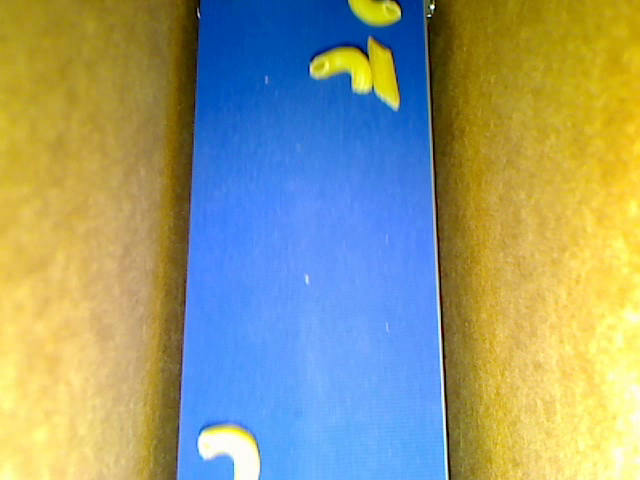elbow: (197, 423, 259, 479), (308, 46, 373, 92), (347, 1, 401, 28)
penne: (368, 36, 400, 111)
